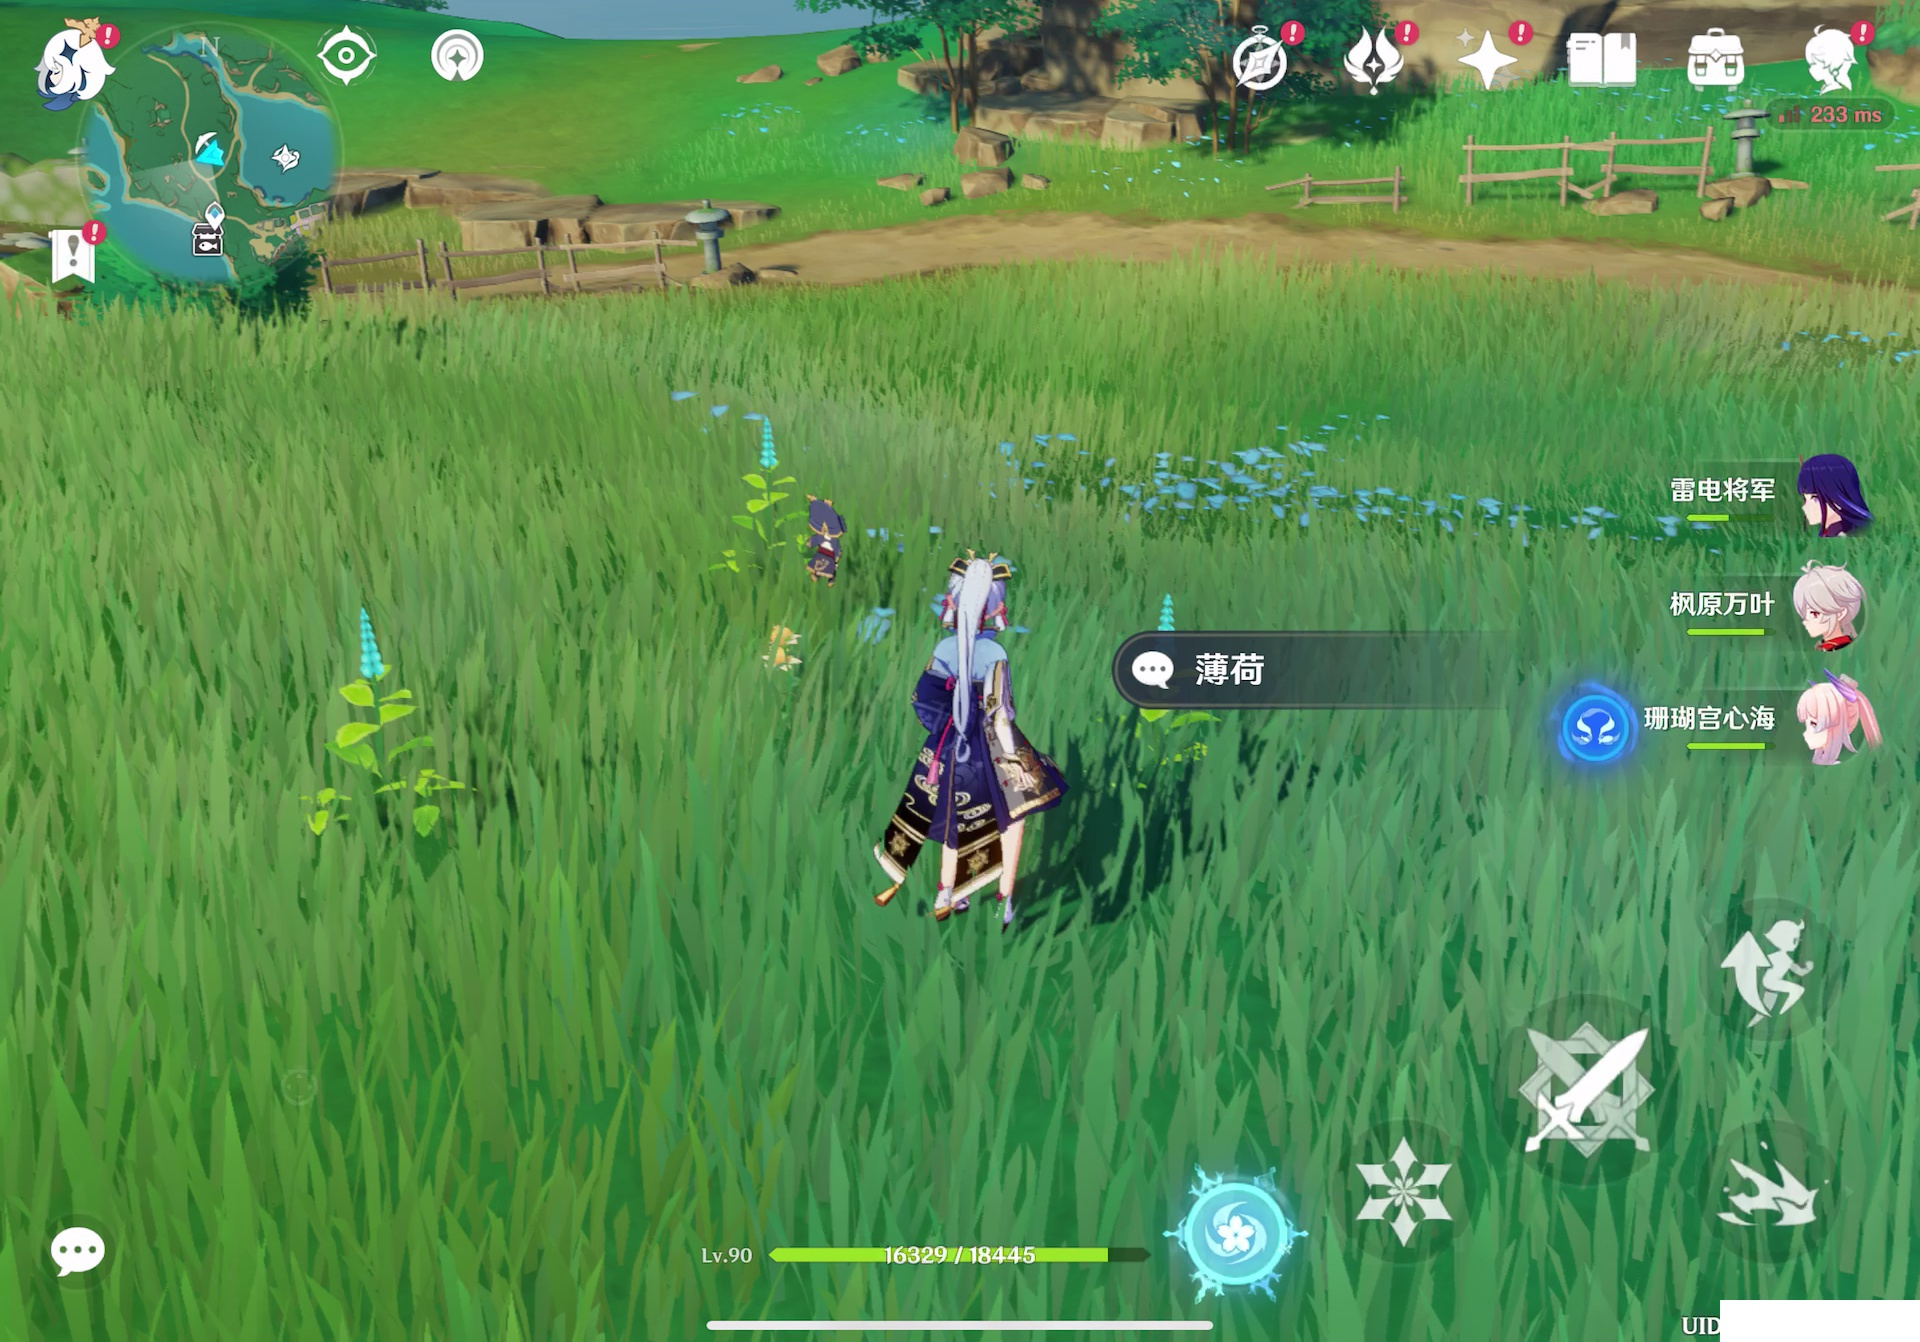没用的甜甜花: (732, 624, 821, 751)
没用的薄荷: (295, 597, 474, 862), (716, 410, 805, 586)
神里绫龟: (864, 527, 1080, 935)
